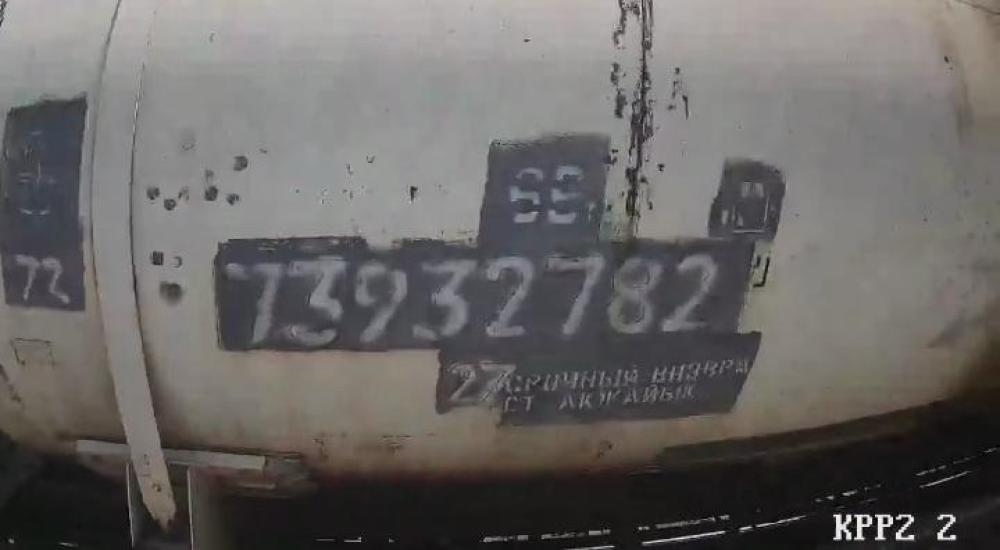Wagon-number: (226, 244, 719, 348)
